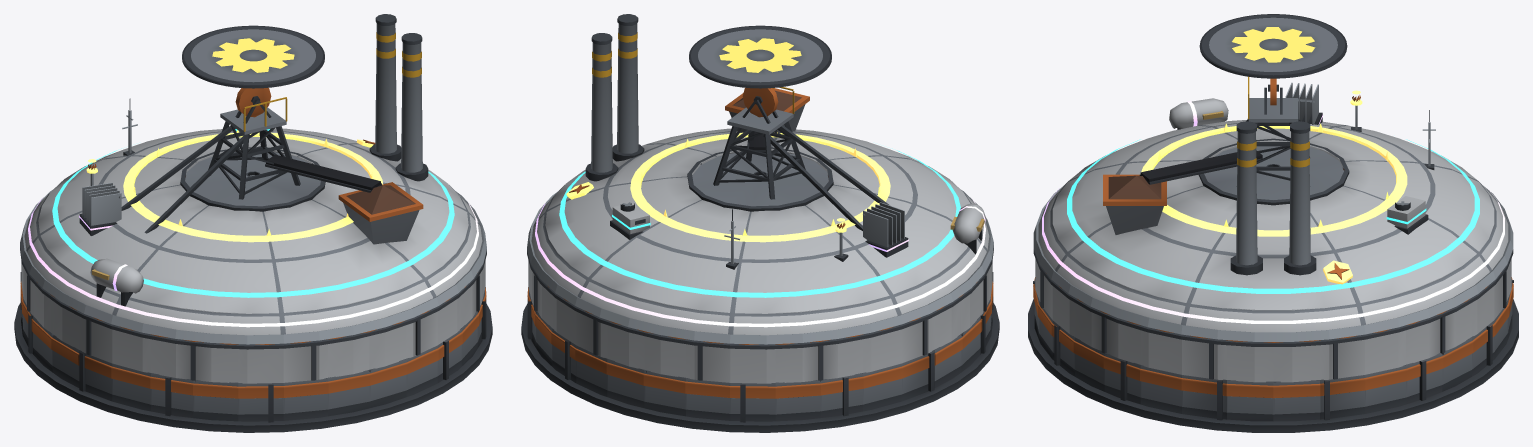
File: mine_m_far.glb
The picture shows the model from 3 angles, left to right: view 1: azimuth 30°, elevation 25°; view 2: azimuth 150°, elevation 25°; view 3: azimuth 270°, elevation 25°; orthographic projection. The views are drawn at different scales.
Visible parts, largest first — view 1: Roof, Base, L2, L4, L5, L3; view 2: Roof, Base, L2, L4, L5, L3; view 3: Roof, Base, L2, L4, L3, L5.
Part boxes in pixels (left/top/right/bottom): Roof: left=20, top=14, right=486, bottom=383; Base: left=14, top=272, right=492, bottom=432; L2: left=20, top=98, right=486, bottom=344; L4: left=28, top=182, right=478, bottom=327; L5: left=86, top=130, right=382, bottom=242; L3: left=52, top=128, right=454, bottom=297; Roof: left=527, top=14, right=993, bottom=383; Base: left=521, top=272, right=999, bottom=432; L2: left=527, top=190, right=993, bottom=344; L4: left=535, top=198, right=985, bottom=327; L5: left=566, top=132, right=890, bottom=261; L3: left=559, top=148, right=960, bottom=297; Roof: left=1033, top=14, right=1513, bottom=382; Base: left=1028, top=277, right=1518, bottom=432; L2: left=1033, top=110, right=1513, bottom=341; L4: left=1042, top=82, right=1504, bottom=323; L3: left=1067, top=139, right=1479, bottom=293; L5: left=1141, top=90, right=1407, bottom=284.
Size of the model in its own units: 14.75 by 9.43 by 14.75.
